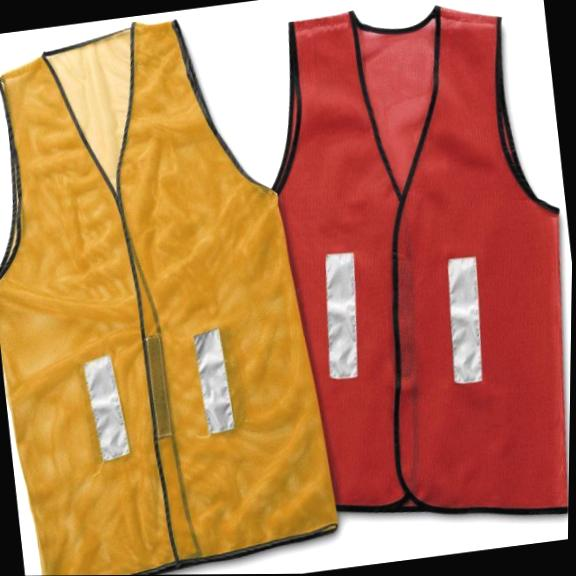safety_vest: (0, 3, 352, 576), (242, 0, 576, 557)
